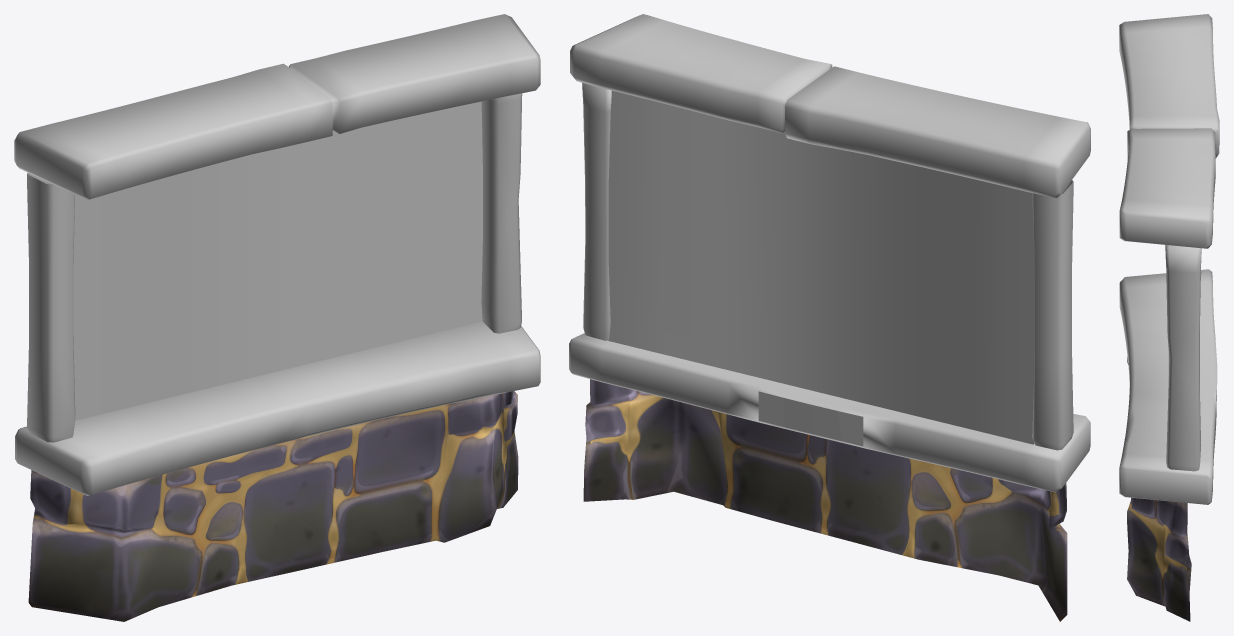
File: U_Wall_LongB_04.fbx
3 renders of one model, left to right at view 1: azimuth 30°, elevation 25°; view 2: azimuth 150°, elevation 25°; view 3: azimuth 270°, elevation 25°, orthographic. The views are drawn at different scales.
Visible parts, largest first — view 1: U_Wall_LongB_04; view 2: U_Wall_LongB_04; view 3: U_Wall_LongB_04.
Part boxes in pixels (left/top/right/bottom): U_Wall_LongB_04: left=14, top=14, right=540, bottom=621; U_Wall_LongB_04: left=569, top=14, right=1090, bottom=621; U_Wall_LongB_04: left=1119, top=14, right=1219, bottom=621.
Size of the model in its own units: 4612 by 4214 by 940.
